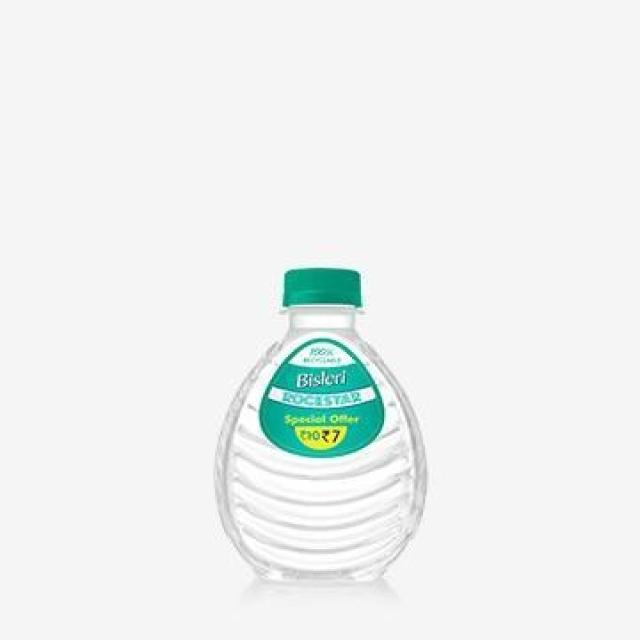plastic_bottle: (212, 266, 428, 586)
